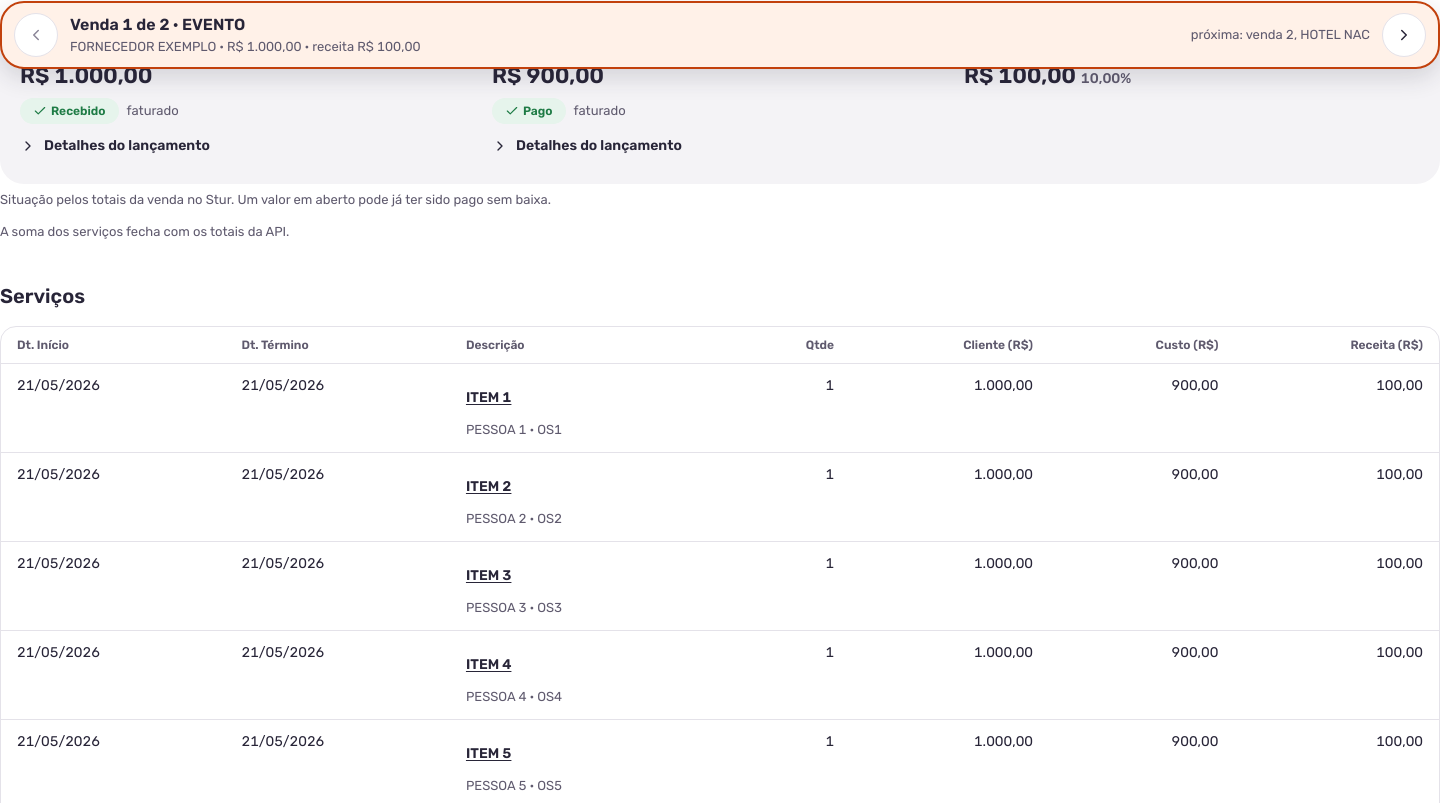
Test case: a linha abre o painel pelo contexto da página: push, Serviço 1 de 14 · venda 1 de 2
(page scrolled)
Click the button with aria-label "ITEM 1, PESSOA 1": (489, 398) [466, 376, 511, 420]
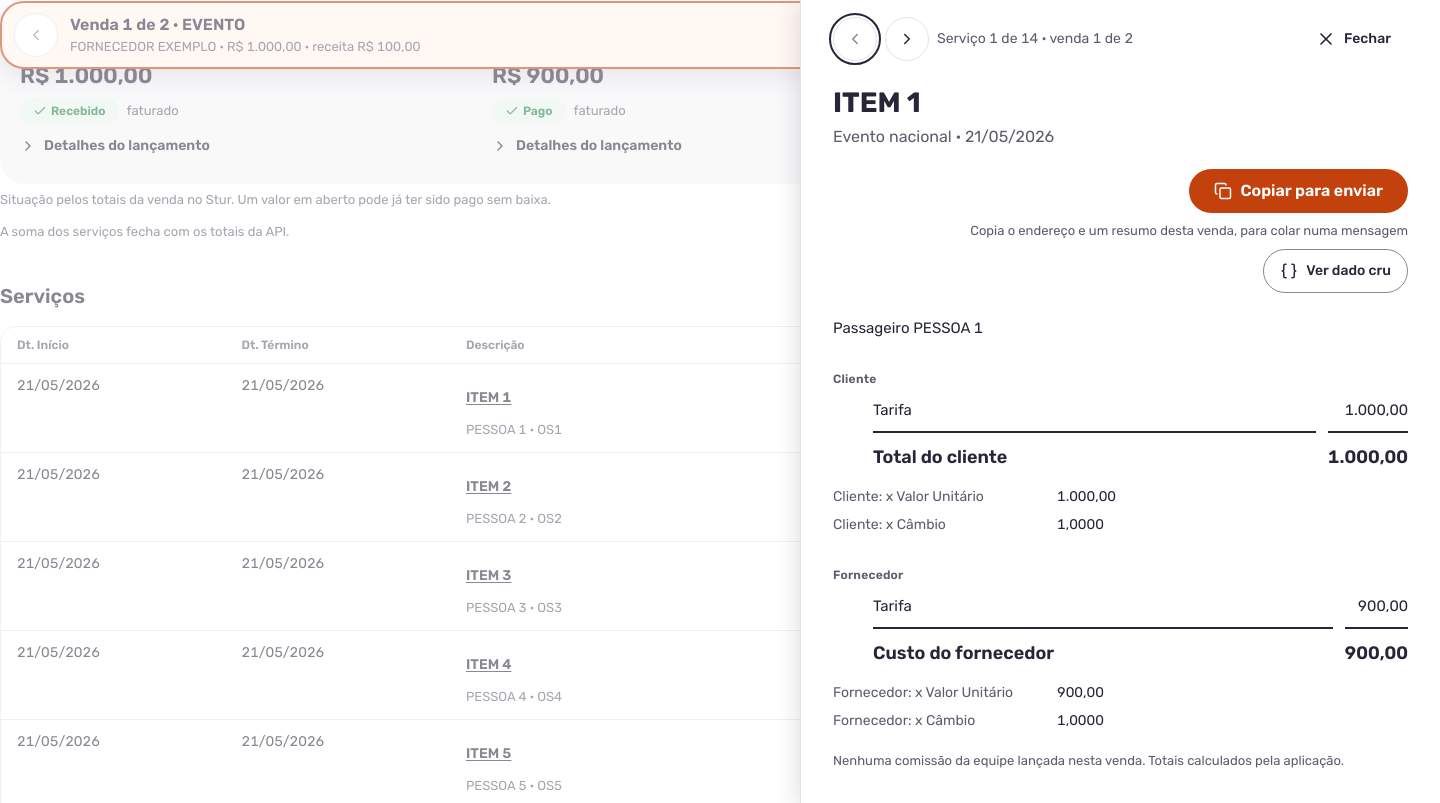
Result: the text "Serviço 1 de 14 · venda 1 de 2" is shown at [937, 29, 1133, 49]
Result: the heading "ITEM 1" is shown at [833, 86, 921, 119]
